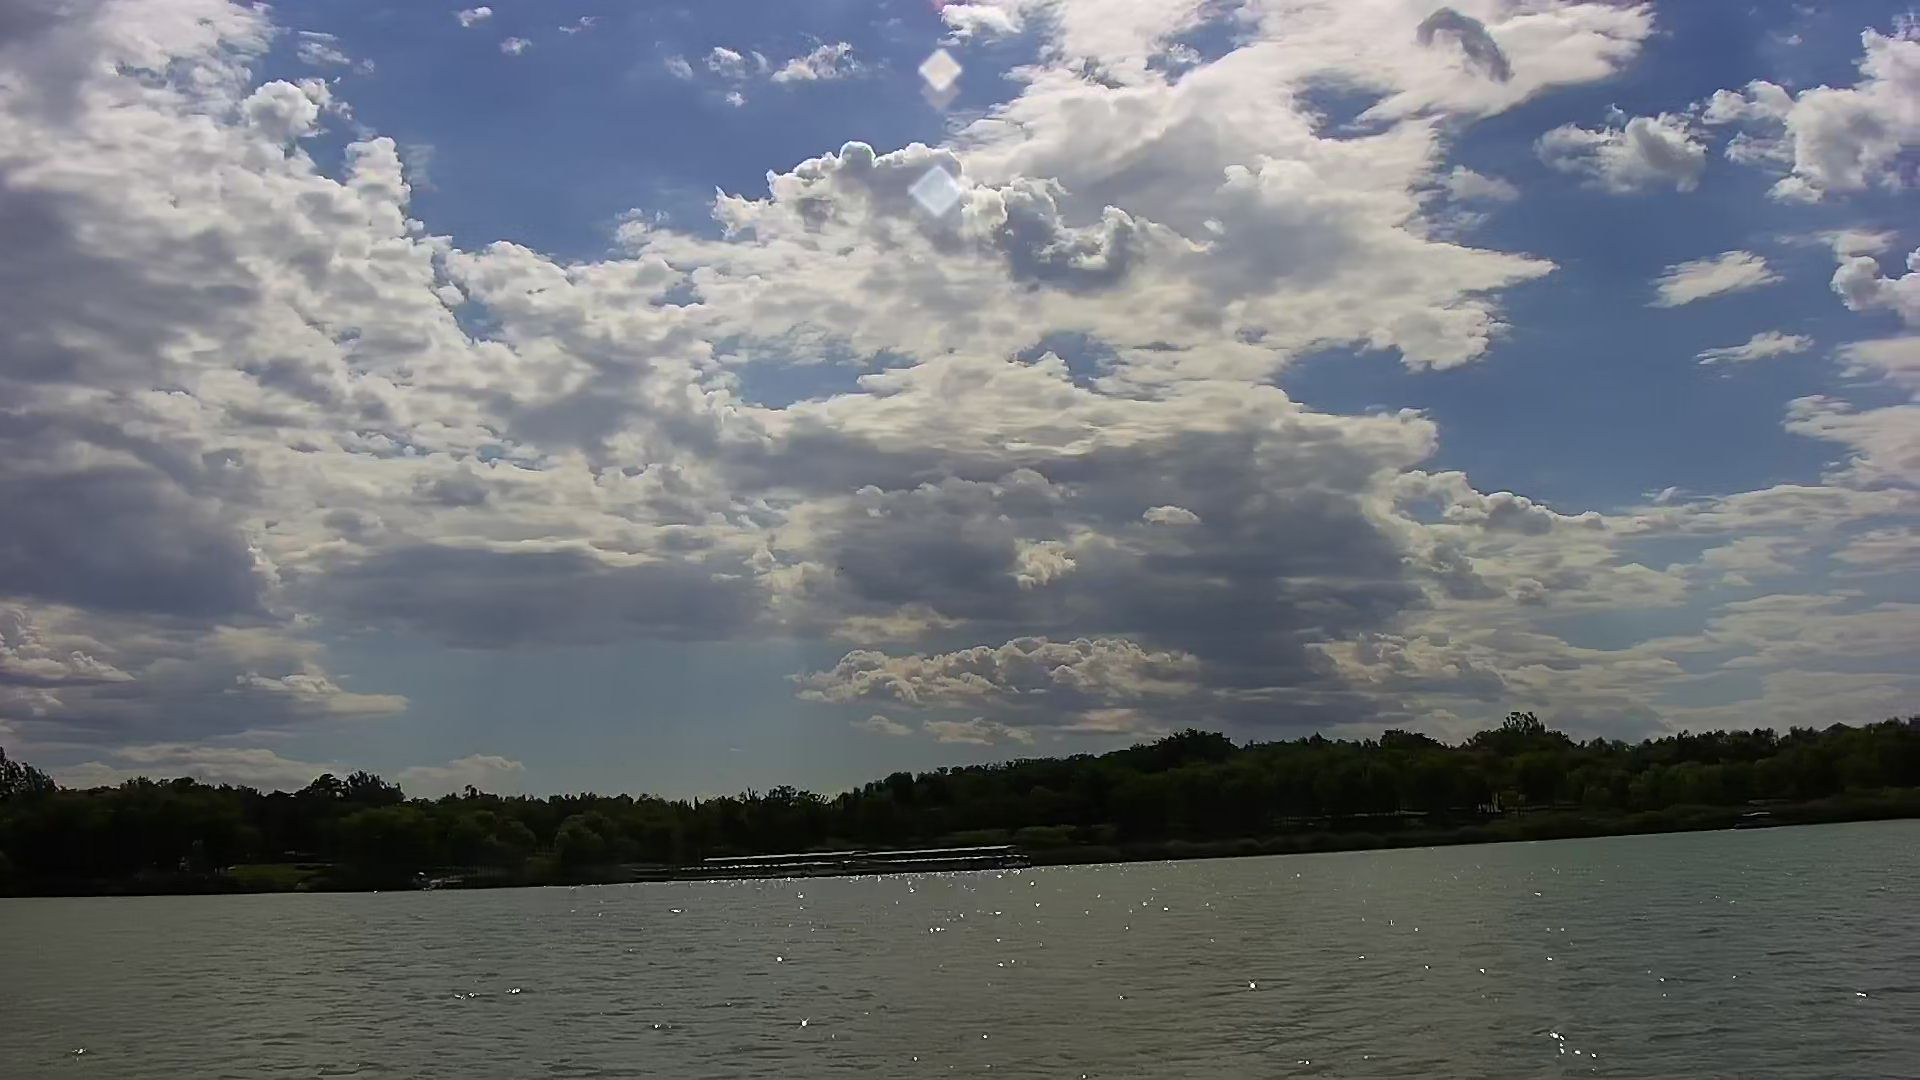harbor: (694, 840, 1035, 882)
